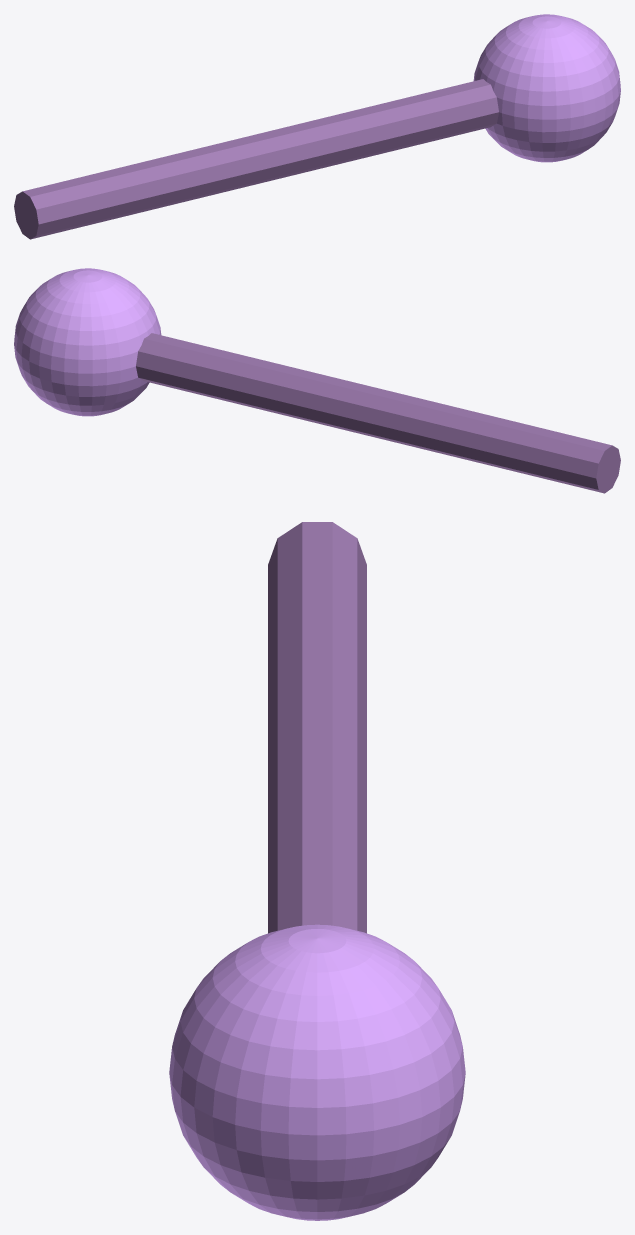
File: gun_staff.glb
3 renders of one model, top to bottom at view 1: azimuth 30°, elevation 25°; view 2: azimuth 150°, elevation 25°; view 3: azimuth 270°, elevation 25°, orthographic. The views are drawn at different scales.
Parts seen in each view (by area): view 1: gun_staff; view 2: gun_staff; view 3: gun_staff.
Part boxes in pixels (x1,y1,x2,y2): gun_staff: (14,14,620,239); gun_staff: (14,268,620,493); gun_staff: (169,522,465,1220).
Bounding box in the file's own units: 0.82 × 0.18 × 0.18.
